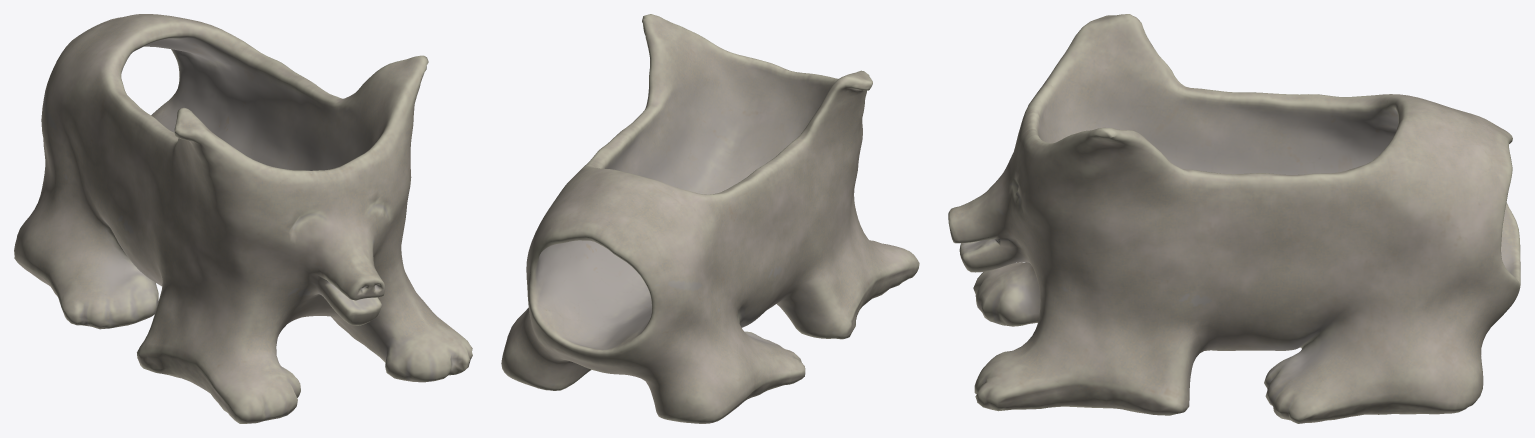
The model's file is Dog_11_3D_02_Pub.glb.
3 views of the same model, side by side, from view 1: azimuth 30°, elevation 25°; view 2: azimuth 150°, elevation 25°; view 3: azimuth 270°, elevation 25° (orthographic). The views are drawn at different scales.
Parts seen in each view (by area): view 1: Skin_dog4_03 - Default_0; view 2: Skin_dog4_03 - Default_0; view 3: Skin_dog4_03 - Default_0.
Part boxes in pixels (bbox=[...]): Skin_dog4_03 - Default_0: bbox=[14, 14, 472, 423]; Skin_dog4_03 - Default_0: bbox=[501, 14, 919, 423]; Skin_dog4_03 - Default_0: bbox=[948, 14, 1520, 423].
Size of the model in its own units: 0.1004 by 0.0942 by 0.1655.
Materials: 1 (1 with a texture image).
